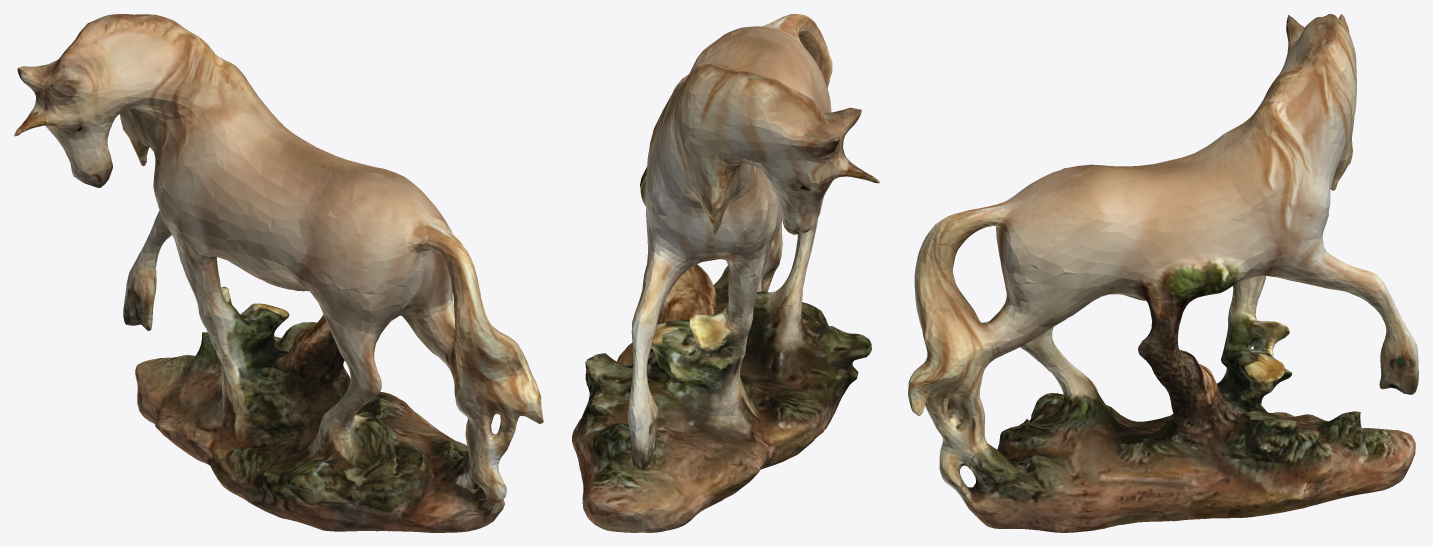
Rendered from Unicorn.glb.
3 views of the same model, side by side, from view 1: azimuth 30°, elevation 25°; view 2: azimuth 150°, elevation 25°; view 3: azimuth 270°, elevation 25° (orthographic). The views are drawn at different scales.
Visible parts, largest first — view 1: unicorn; view 2: unicorn; view 3: unicorn.
Boxes of the visible parts, box(x1,y1,x2,y2) form: unicorn: box(14, 14, 543, 532); unicorn: box(572, 14, 879, 532); unicorn: box(908, 14, 1418, 532).
Bounding box in the file's own units: 3.21 × 3.93 × 4.47.
Materials: 1 (1 with a texture image).
